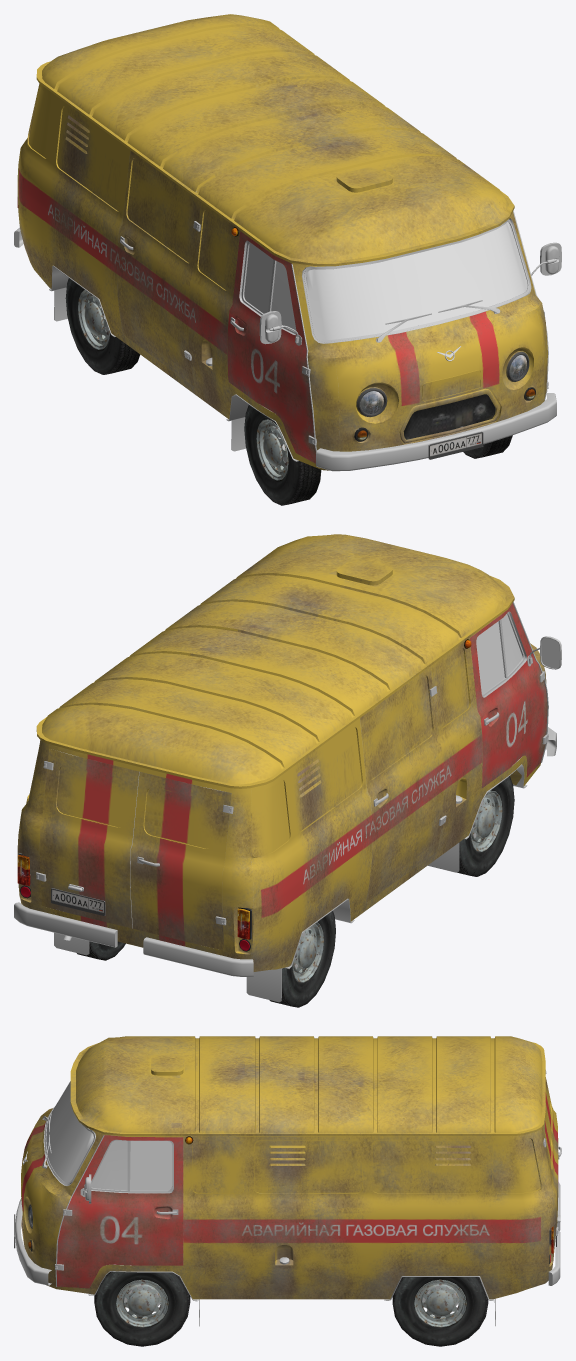
File: uaz.dae
3 views of the same model, one above another, from view 1: azimuth 30°, elevation 25°; view 2: azimuth 150°, elevation 25°; view 3: azimuth 270°, elevation 25° (orthographic). The views are drawn at different scales.
Parts seen in each view (by area): view 1: кузов, кузов.008, стекло, бампера, кузов.002, резина, кузов.010, резина.001, крылья, диски, диски.001, фары.005 (+4 smaller); view 2: кузов, кузов.008, бампера, крылья, стекло, резина, резина.001, диски, диски.001, кузов.002, номера, фары.002; view 3: кузов, кузов.008, стекло, резина.003, резина.002, диски.002, диски.003, кузов.002, бампера, кузов.009, крылья.
Part boxes in pixels (bbox=[...]): кузов: bbox=[17, 14, 547, 470]; кузов.008: bbox=[117, 150, 316, 463]; стекло: bbox=[244, 222, 527, 340]; бампера: bbox=[14, 227, 556, 471]; кузов.002: bbox=[120, 219, 561, 366]; резина: bbox=[244, 405, 321, 505]; кузов.010: bbox=[403, 394, 495, 439]; резина.001: bbox=[65, 278, 140, 374]; крылья: bbox=[49, 265, 298, 461]; диски: bbox=[256, 419, 288, 480]; диски.001: bbox=[78, 289, 109, 349]; фары.005: bbox=[354, 355, 535, 441]; кузов: bbox=[17, 534, 546, 971]; кузов.008: bbox=[39, 603, 547, 950]; бампера: bbox=[14, 727, 556, 976]; крылья: bbox=[54, 764, 527, 1002]; стекло: bbox=[476, 614, 522, 694]; резина: bbox=[457, 776, 514, 876]; резина.001: bbox=[269, 911, 335, 1007]; диски: bbox=[470, 790, 502, 851]; диски.001: bbox=[292, 922, 323, 982]; кузов.002: bbox=[137, 612, 561, 866]; номера: bbox=[51, 888, 105, 915]; фары.002: bbox=[17, 855, 249, 939]; кузов: bbox=[21, 1036, 556, 1299]; кузов.008: bbox=[56, 1077, 558, 1288]; стекло: bbox=[46, 1081, 172, 1190]; резина.003: bbox=[94, 1271, 190, 1346]; резина.002: bbox=[392, 1277, 488, 1346]; диски.002: bbox=[414, 1279, 466, 1327]; диски.003: bbox=[116, 1279, 168, 1327]; кузов.002: bbox=[42, 1106, 561, 1264]; бампера: bbox=[15, 1182, 560, 1285]; кузов.009: bbox=[269, 1145, 470, 1165]; крылья: bbox=[88, 1271, 495, 1326].
Size of the model in its own units: 1.56 by 2.94 by 1.42.
